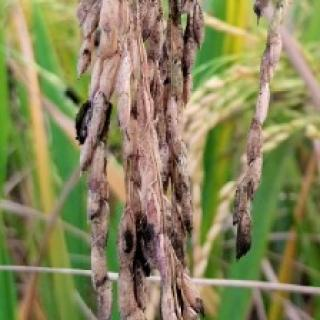Gosong-Palsu: (74, 90, 116, 146)
